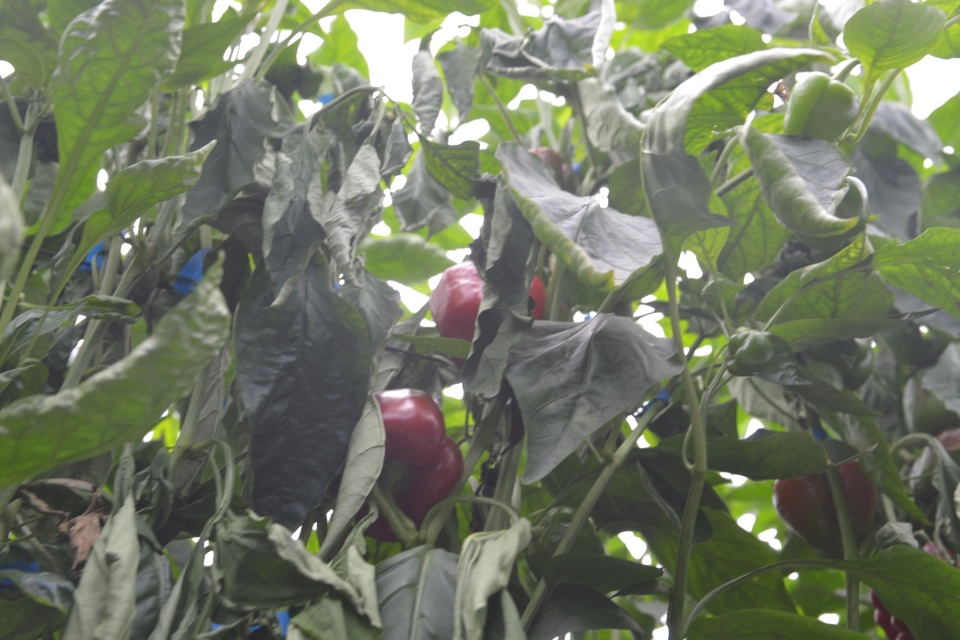fruit: (354, 386, 465, 543), (428, 258, 548, 369), (771, 456, 878, 553), (871, 536, 959, 640), (523, 503, 607, 584), (780, 67, 862, 146), (723, 324, 776, 379)
pedicle: (380, 458, 412, 494)
